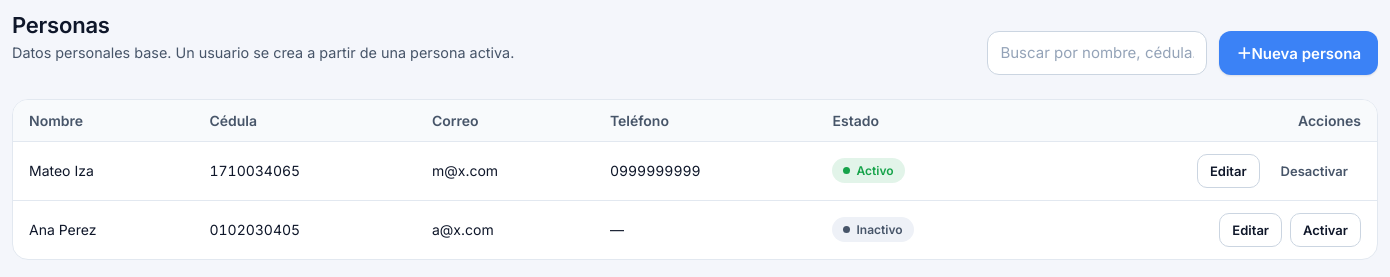
Test: PersonasPage › filtra por término
The image size is (1390, 277).
Check: the text "m@x.com" is shown, box [416, 141, 594, 200]
Type "ana" into the field named "Buscar personas".
click(1097, 53); type("ana")  # box [987, 31, 1207, 75]
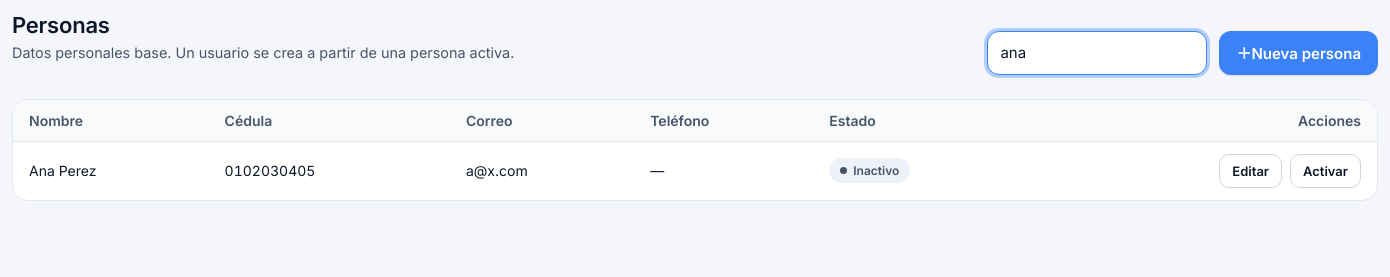
Check: the text "a@x.com" is shown, box [450, 141, 634, 200]
Check: the text "m@x.com" is gone
